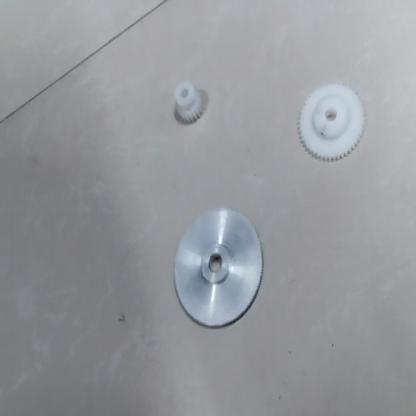FOD: (170, 204, 267, 334), (294, 80, 368, 164), (173, 80, 205, 126)
